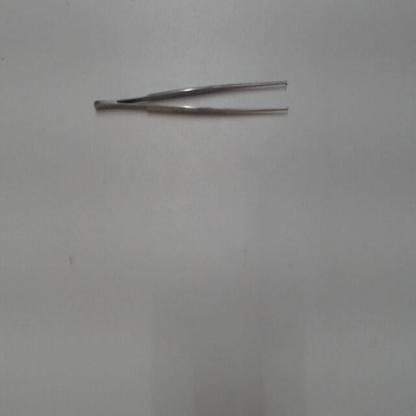Gillies Toothed Dissector: (90, 75, 296, 129)
